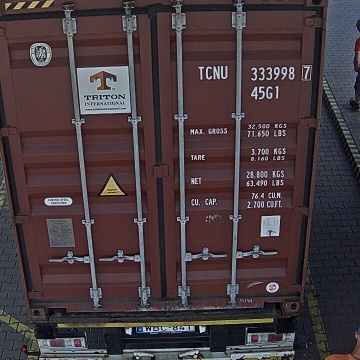serial_id: (198, 65, 312, 80)
